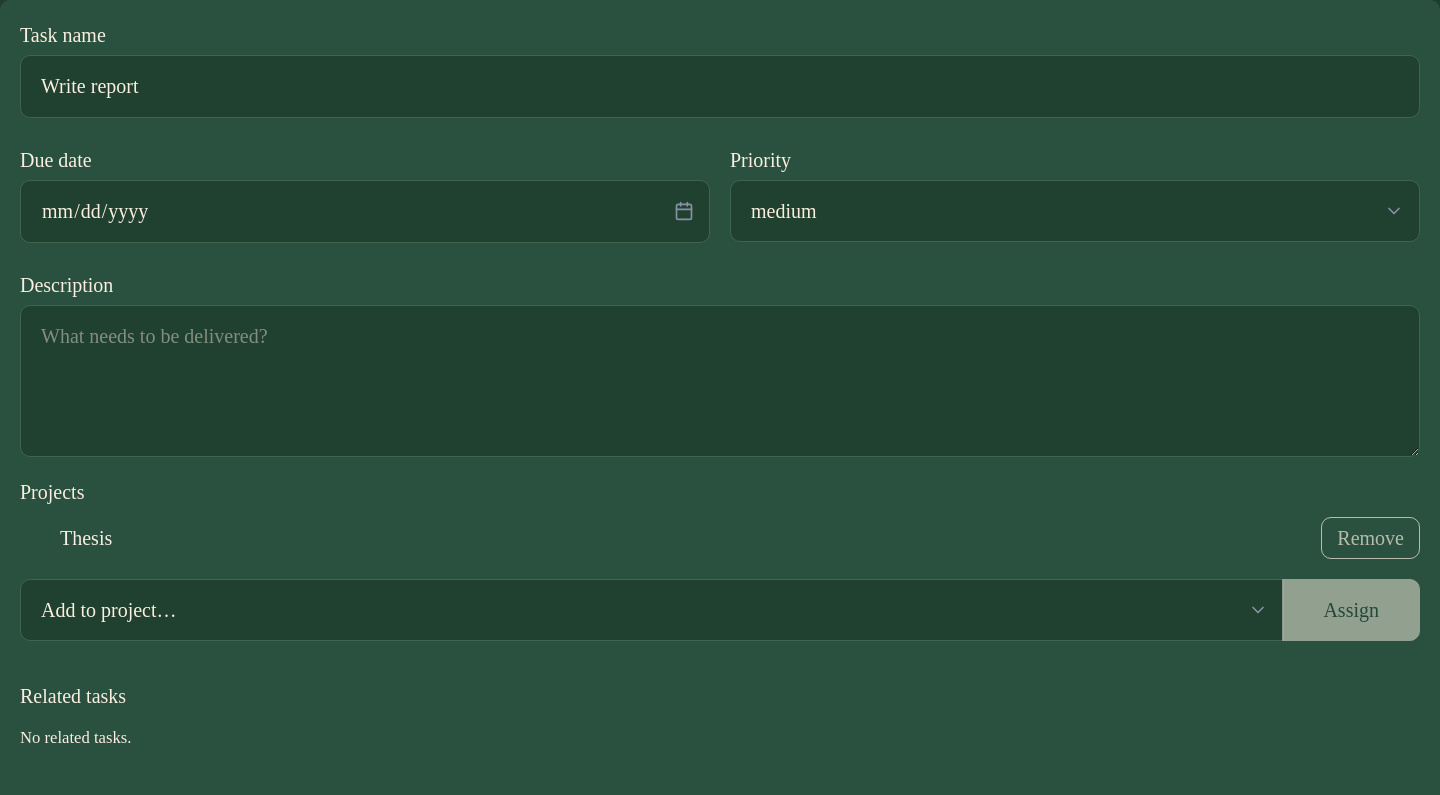
Test: TaskForm checks the due date against its projects' deadlines › blocks saving while the due date is after a project the task is in
Type "2026-12-01" into the date field labelled "Due date" at (365, 211), box [20, 180, 710, 242]
(page scrolled)
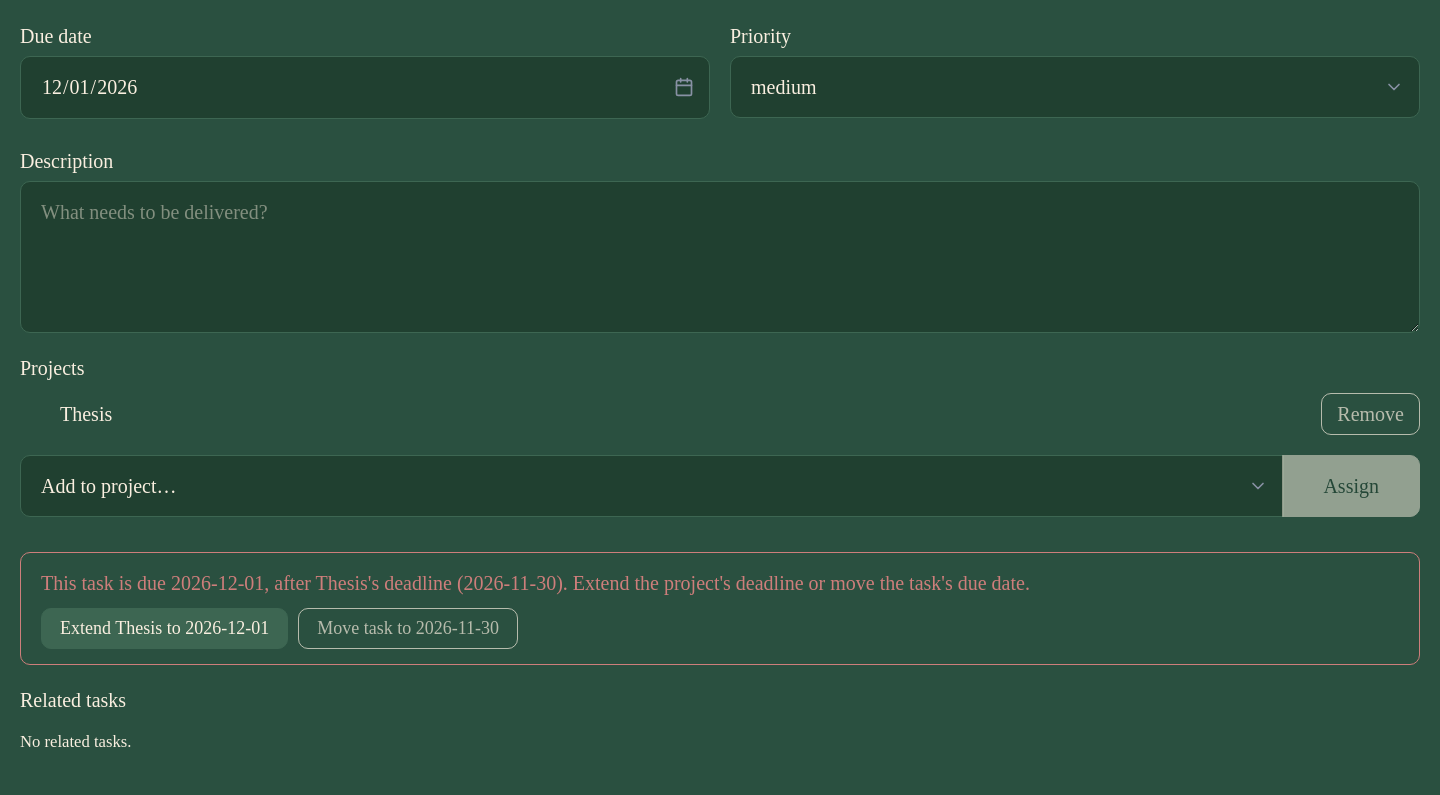
Expected: the message with class "date-error" shows "after Thesis's deadline (2026-11-30)", [41, 572, 1030, 594]
Submit the form
# Clearing the due date leaves nothing to check
Clear the date field labelled "Due date" at (365, 87), box [20, 56, 710, 118]
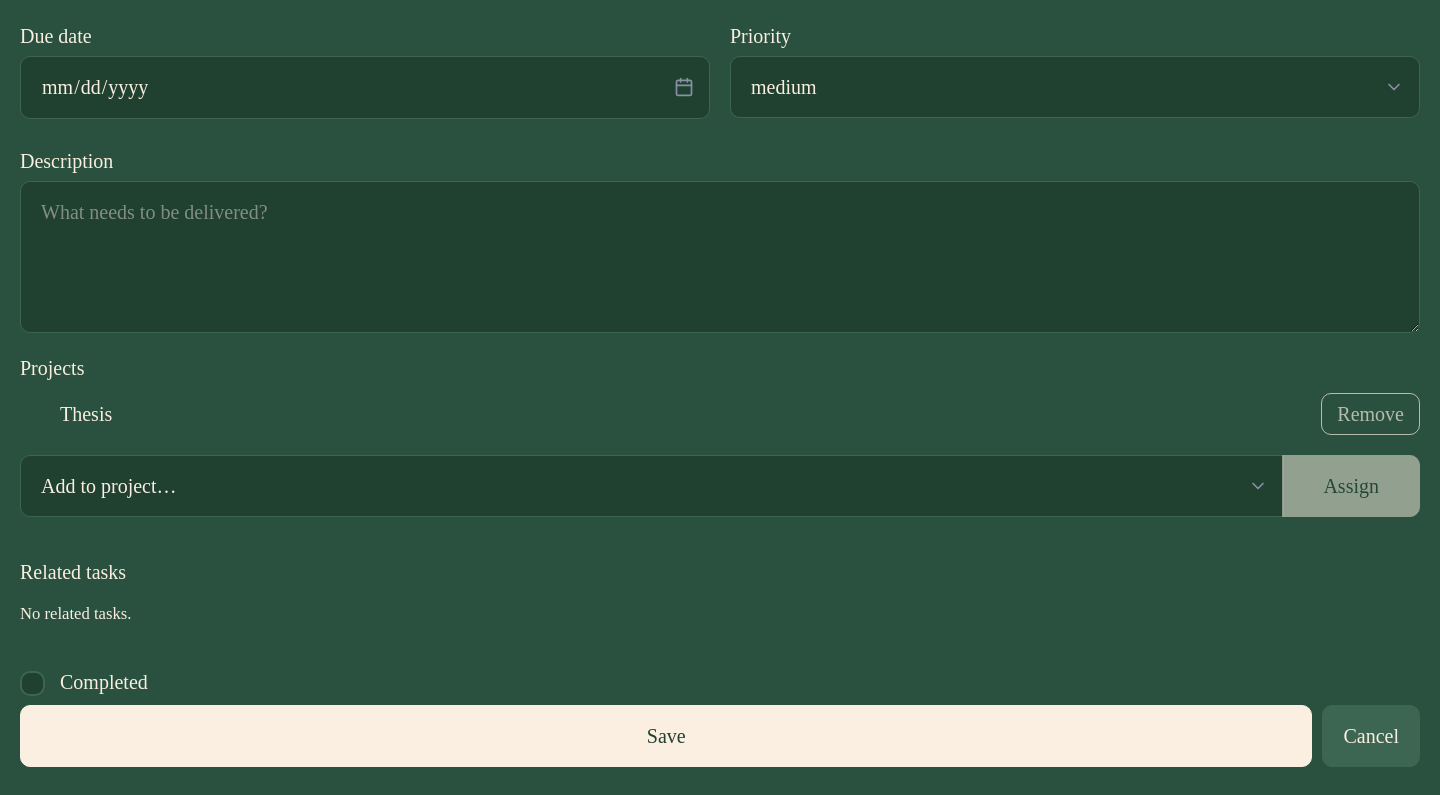
Expected: the button "Save" is enabled, [20, 704, 1312, 766]
